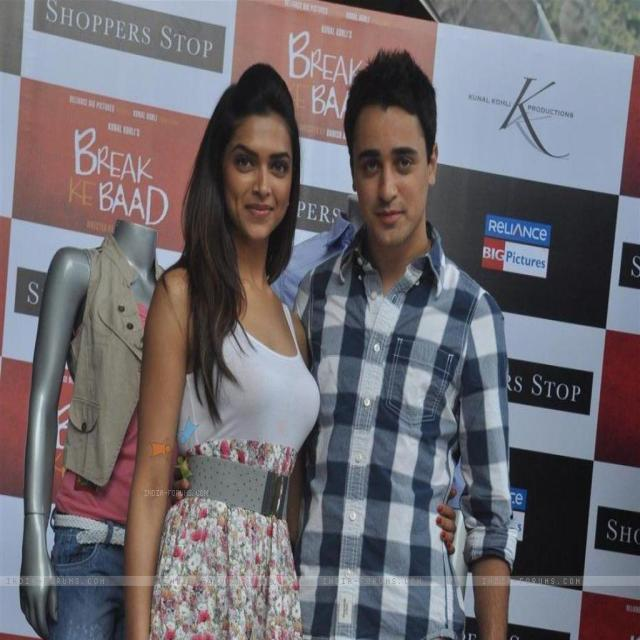Face: (351, 99, 427, 255), (222, 110, 299, 252)
